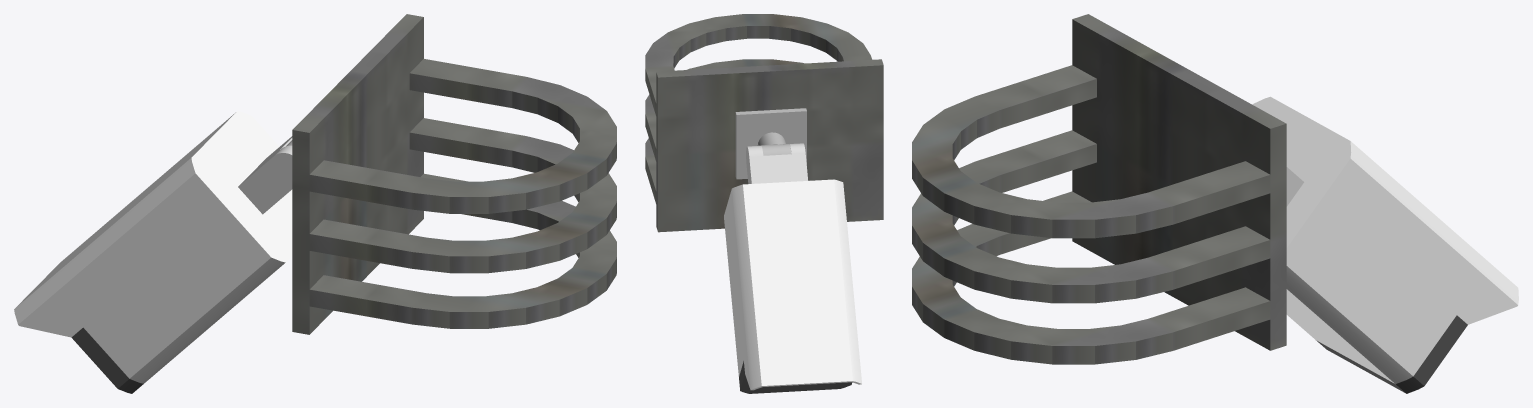
The model's file is Camera ip virada para baixo.fbx.
3 views of the same model, side by side, from view 1: azimuth 30°, elevation 25°; view 2: azimuth 150°, elevation 25°; view 3: azimuth 270°, elevation 25° (orthographic). The views are drawn at different scales.
Visible parts, largest first — view 1: Componente_13_1, Componente_1_1, Al_a1, Al_a3, Al_a2, Componente_12_1, Componente_9_1; view 2: Componente_1_1, Componente_13_1, Al_a1, Componente_11_1, Componente_12_1, Al_a3, Componente_9_1, Al_a2; view 3: Componente_13_1, Componente_1_1, Al_a1, Al_a3, Al_a2, Componente_9_1.
Part boxes in pixels (left/top/right/bottom): Componente_13_1: left=14, top=111, right=292, bottom=383; Componente_1_1: left=292, top=14, right=423, bottom=334; Al_a1: left=309, top=59, right=616, bottom=213; Al_a3: left=309, top=118, right=616, bottom=273; Al_a2: left=309, top=173, right=616, bottom=328; Componente_12_1: left=238, top=136, right=292, bottom=214; Componente_9_1: left=71, top=327, right=143, bottom=393; Componente_1_1: left=656, top=59, right=883, bottom=232; Componente_13_1: left=724, top=179, right=861, bottom=390; Al_a1: left=645, top=14, right=872, bottom=115; Componente_11_1: left=735, top=108, right=806, bottom=179; Componente_12_1: left=746, top=143, right=808, bottom=183; Al_a3: left=645, top=59, right=804, bottom=161; Componente_9_1: left=739, top=361, right=852, bottom=393; Al_a2: left=645, top=138, right=656, bottom=203; Componente_13_1: left=1252, top=96, right=1518, bottom=383; Componente_1_1: left=1072, top=14, right=1286, bottom=350; Al_a1: left=912, top=65, right=1270, bottom=238; Al_a3: left=912, top=130, right=1270, bottom=303; Al_a2: left=912, top=191, right=1270, bottom=364; Componente_9_1: left=1316, top=315, right=1467, bottom=393.
Bounding box in the file's own units: 262 × 196 × 297.
